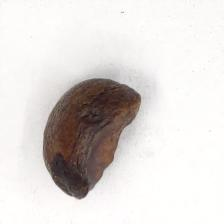NG: (84, 91, 142, 199)
